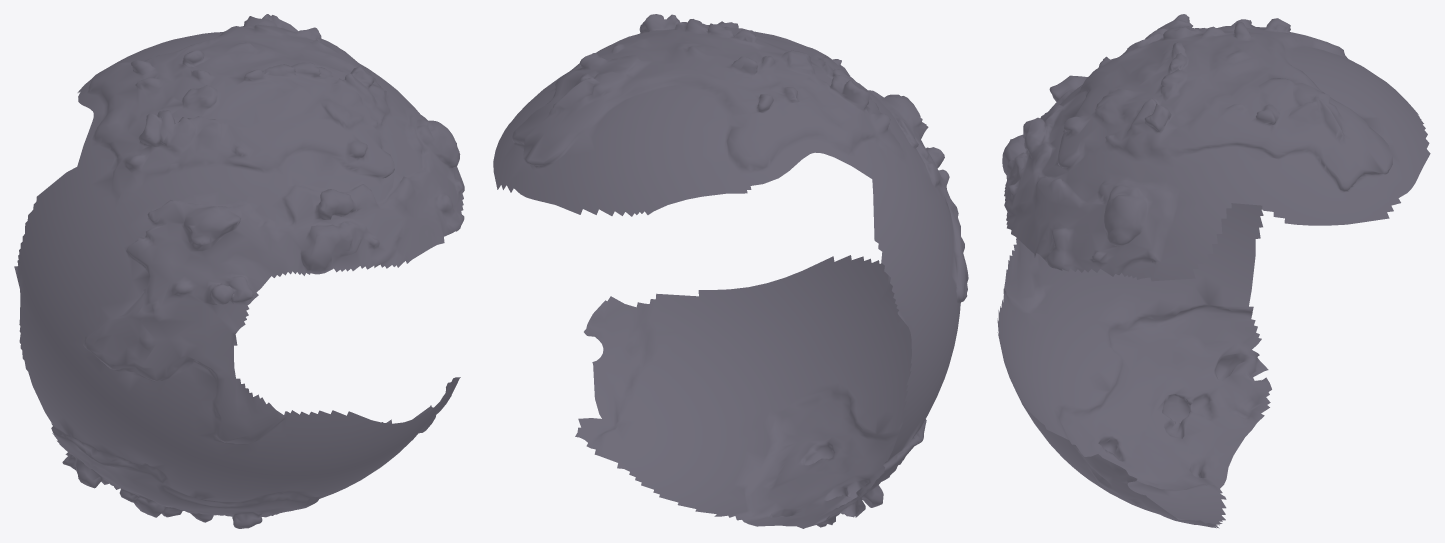
Rendered from PartOfPlanet.glb.
3 renders of one model, left to right at view 1: azimuth 30°, elevation 25°; view 2: azimuth 150°, elevation 25°; view 3: azimuth 270°, elevation 25°, orthographic. The views are drawn at different scales.
Visible parts, largest first — view 1: FinishedSep.001; view 2: FinishedSep.001; view 3: FinishedSep.001.
Part boxes in pixels (x1,y1,x2,y2): FinishedSep.001: (14, 14, 464, 528); FinishedSep.001: (493, 14, 968, 528); FinishedSep.001: (997, 14, 1430, 528).
Bounding box in the file's own units: 1.62 × 1.79 × 1.51.
1 material, 1 textured.
